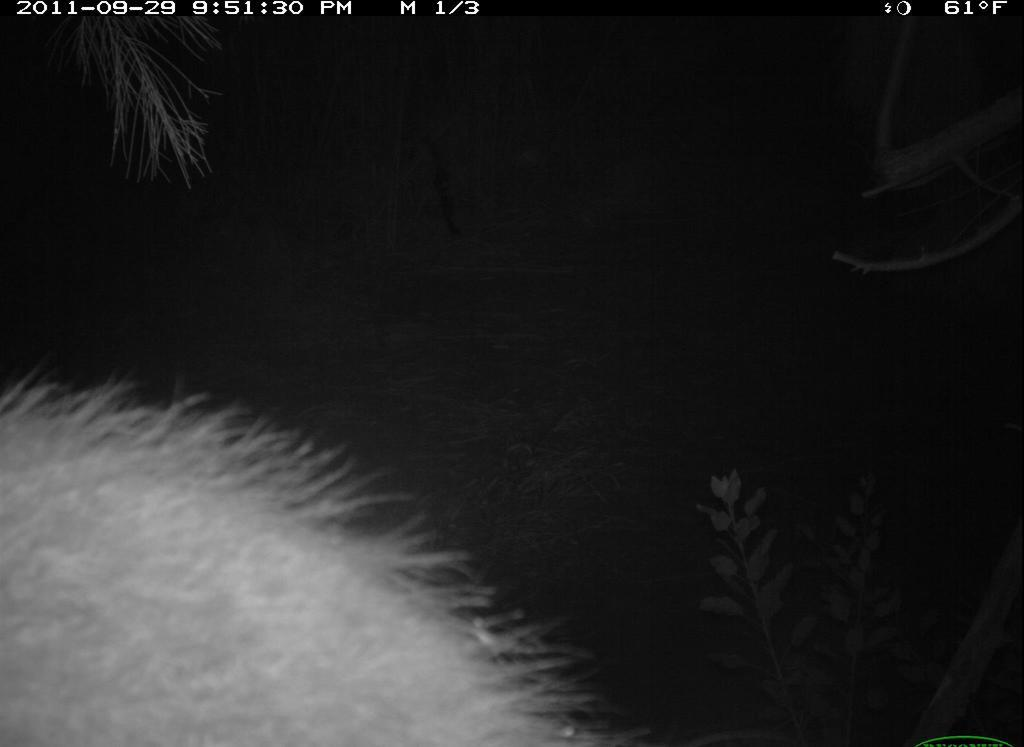raccoon: (4, 370, 648, 747)
